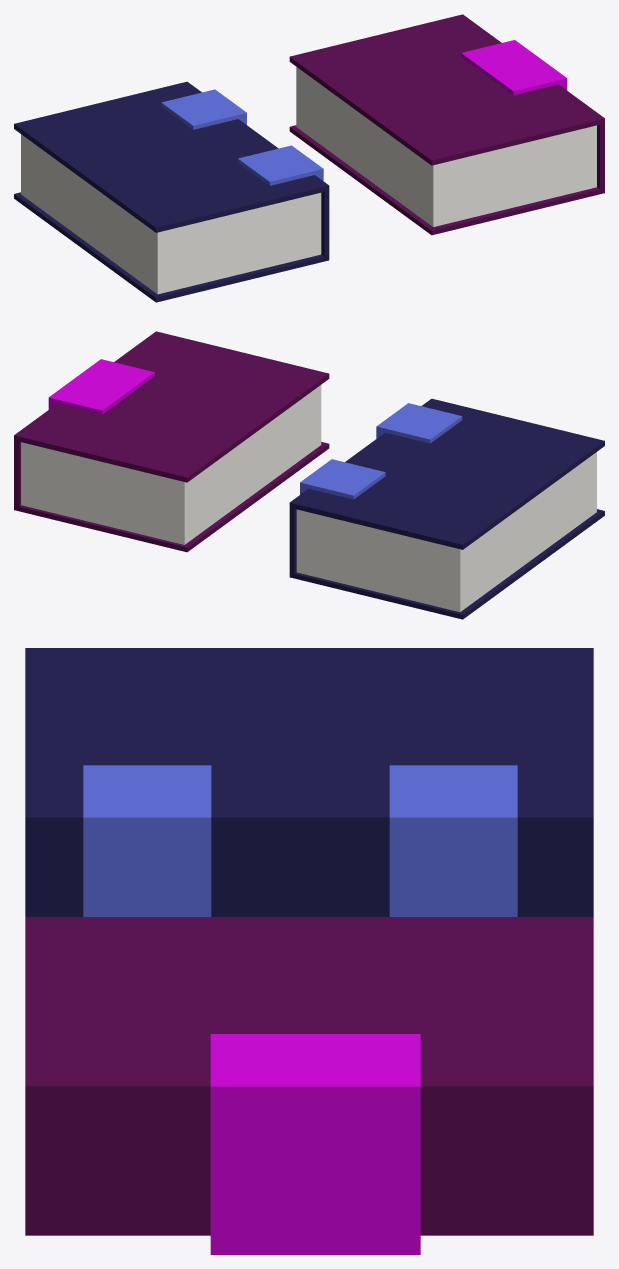
File: Libros.fbx
3 renders of one model, top to bottom at view 1: azimuth 30°, elevation 25°; view 2: azimuth 150°, elevation 25°; view 3: azimuth 270°, elevation 25°, orthographic. The views are drawn at different scales.
Parts seen in each view (by area): view 1: Libro 2, Libro1; view 2: Libro 2, Libro1; view 3: Libro1, Libro 2.
Part boxes in pixels (x1=…): Libro 2: x1=14, y1=81, x2=329, y2=302; Libro1: x1=289, y1=14, x2=604, y2=235; Libro 2: x1=289, y1=398, x2=604, y2=619; Libro1: x1=14, y1=331, x2=329, y2=552; Libro1: x1=25, y1=917, x2=593, y2=1254; Libro 2: x1=25, y1=648, x2=593, y2=916.
Bounding box in the file's own units: 109 × 19.18 × 58.71.
